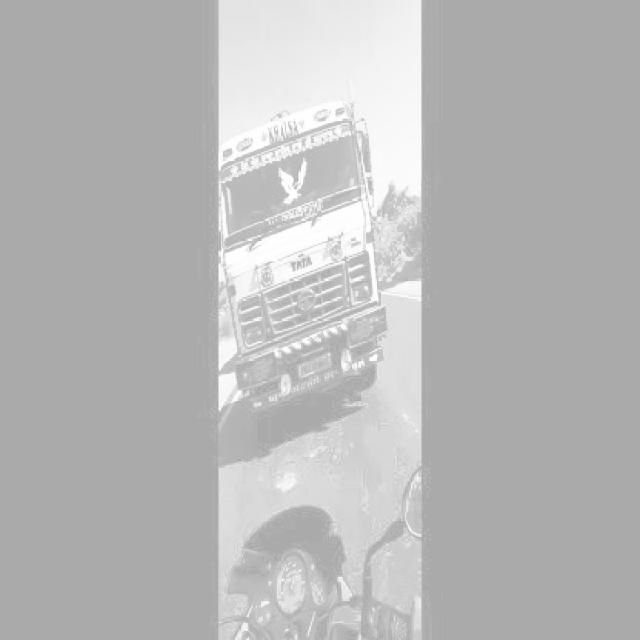HCV: (228, 121, 382, 408)
